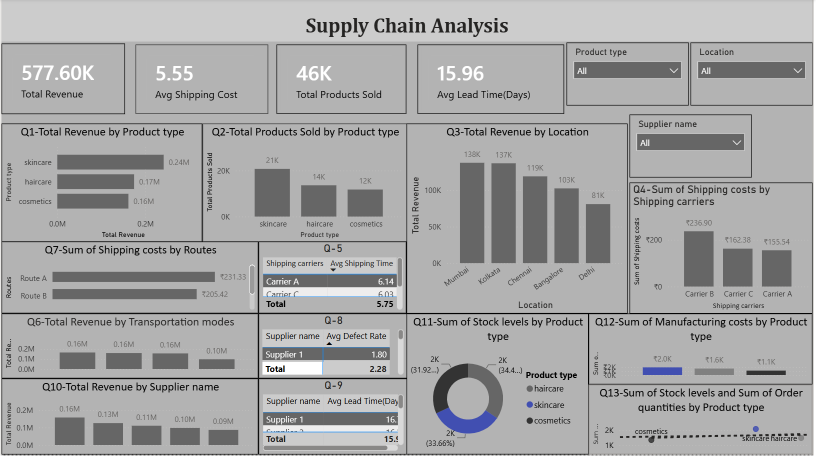

The dashboard page shown, as its layout file describes it:
{"tool":"powerbi","page":{"name":"Suppy Chain Analysis","canvas":[1280,720],"ordinal":4},"visuals":[{"type":"slicer","fields":{"Values":["project_supply_chain_data supply_chain_data.Supplier name"]},"box":[991.5,182.9,193,99.6],"z":0},{"type":"slicer","fields":{"Values":["project_supply_chain_data supply_chain_data.Product type"]},"box":[891.9,69.1,193,99.6],"z":1000},{"type":"slicer","fields":{"Values":["project_supply_chain_data supply_chain_data.Location"]},"box":[1087,69.1,193,99.6],"z":2000},{"type":"textbox","box":[0,0,1280,67.9],"z":3000},{"type":"cardVisual","fields":{"Data":["project_supply_chain_data supply_chain_data.Total Revenue"]},"box":[0,71.1,195,111.7],"z":3001},{"type":"cardVisual","fields":{"Data":["project_supply_chain_data supply_chain_data.Total Products Sold"]},"box":[434.8,73.1,205.2,109.7],"z":3002},{"type":"cardVisual","fields":{"Data":["project_supply_chain_data supply_chain_data.Avg Shipping Cost"]},"box":[211.3,73.1,209.3,109.7],"z":3003},{"type":"cardVisual","fields":{"Data":["project_supply_chain_data supply_chain_data.Avg Lead Time(Days)"]},"box":[656.3,73.1,231.6,109.7],"z":3004},{"type":"clusteredBarChart","title":"Q1-Total Revenue by Product type","fields":{"Y":["project_supply_chain_data supply_chain_data.Total Revenue"],"Category":["project_supply_chain_data supply_chain_data.Product type"]},"box":[0,197.1,317,186.9],"z":3005},{"type":"clusteredColumnChart","title":"Q2-Total Products Sold by Product type","fields":{"Category":["project_supply_chain_data supply_chain_data.Product type"],"Y":["project_supply_chain_data supply_chain_data.Total Products Sold"]},"box":[317,197.1,323,186.9],"z":3006},{"type":"columnChart","title":"Q3-Total Revenue by Location","fields":{"Category":["project_supply_chain_data supply_chain_data.Location"],"Y":["project_supply_chain_data supply_chain_data.Total Revenue"]},"box":[639.2,197.3,348.8,299.9],"z":3007},{"type":"clusteredColumnChart","title":"Q4-Sum of Shipping costs by Shipping carriers","fields":{"Category":["project_supply_chain_data supply_chain_data.Shipping carriers"],"Y":["Sum(project_supply_chain_data supply_chain_data.Shipping costs)"]},"box":[991.2,290.4,288.8,206.8],"z":3008},{"type":"tableEx","title":"Q-5","fields":{"Values":["project_supply_chain_data supply_chain_data.Shipping carriers","project_supply_chain_data supply_chain_data.Avg Shipping Time"]},"box":[405.6,383.5,233.6,113.6],"z":3009},{"type":"clusteredColumnChart","title":"Q6-Total Revenue by Transportation modes","fields":{"Category":["project_supply_chain_data supply_chain_data.Transportation modes"],"Y":["project_supply_chain_data supply_chain_data.Total Revenue"]},"box":[0,497.2,405.6,102.6],"z":3010},{"type":"barChart","title":"Q7-Sum of Shipping costs by Routes","fields":{"Category":["project_supply_chain_data supply_chain_data.Routes"],"Y":["Sum(project_supply_chain_data supply_chain_data.Shipping costs)"]},"box":[0,383.5,405.6,113.6],"z":3011},{"type":"pivotTable","title":"Q-8","fields":{"Rows":["project_supply_chain_data supply_chain_data.Supplier name"],"Values":["project_supply_chain_data supply_chain_data.Avg Defect Rate"]},"box":[405.6,497.2,235.2,102.6],"z":3012},{"type":"tableEx","title":"Q-9","fields":{"Values":["project_supply_chain_data supply_chain_data.Supplier name","project_supply_chain_data supply_chain_data.Avg Lead Time(Days)"]},"box":[405.6,599.8,235.2,120],"z":3013},{"type":"clusteredColumnChart","title":"Q10-Total Revenue by Supplier name","fields":{"Category":["project_supply_chain_data supply_chain_data.Supplier name"],"Y":["project_supply_chain_data supply_chain_data.Total Revenue"]},"box":[0,599.8,405.6,120],"z":3014},{"type":"donutChart","title":"Q11-Sum of Stock levels by Product type","fields":{"Category":["project_supply_chain_data supply_chain_data.Product type"],"Y":["Sum(project_supply_chain_data supply_chain_data.Stock levels)"]},"box":[639.2,497.2,287.3,222.5],"z":3015},{"type":"columnChart","title":"Q12-Sum of Manufacturing costs by Product type","fields":{"Category":["project_supply_chain_data supply_chain_data.Product type"],"Y":["Sum(project_supply_chain_data supply_chain_data.Manufacturing costs)"]},"box":[926.5,497.2,353.5,112.1],"z":3016},{"type":"scatterChart","title":"Q13-Sum of Stock levels and Sum of Order quantities by Product type","fields":{"X":["Sum(project_supply_chain_data supply_chain_data.Stock levels)"],"Y":["Sum(project_supply_chain_data supply_chain_data.Order quantities)"],"Series":["project_supply_chain_data supply_chain_data.Product type"]},"box":[926.5,609.2,353.5,110.5],"z":3017}]}

Visuals, with their boxes in screenshot pixels (x1, y1, x2, y2), scaled from the page's 1280x720 canvas onto the 816x456 screenshot:
slicer - project_supply_chain_data supply_chain_data.Supplier name: [632, 116, 755, 179]
slicer - project_supply_chain_data supply_chain_data.Product type: [569, 44, 692, 107]
slicer - project_supply_chain_data supply_chain_data.Location: [693, 44, 815, 107]
textbox: [0, 0, 815, 43]
cardVisual - project_supply_chain_data supply_chain_data.Total Revenue: [0, 45, 124, 116]
cardVisual - project_supply_chain_data supply_chain_data.Total Products Sold: [277, 46, 408, 116]
cardVisual - project_supply_chain_data supply_chain_data.Avg Shipping Cost: [135, 46, 268, 116]
cardVisual - project_supply_chain_data supply_chain_data.Avg Lead Time(Days): [418, 46, 566, 116]
"Q1-Total Revenue by Product type" clusteredBarChart: [0, 125, 202, 243]
"Q2-Total Products Sold by Product type" clusteredColumnChart: [202, 125, 408, 243]
"Q3-Total Revenue by Location" columnChart: [407, 125, 630, 315]
"Q4-Sum of Shipping costs by Shipping carriers" clusteredColumnChart: [632, 184, 815, 315]
"Q-5" tableEx: [259, 243, 407, 315]
"Q6-Total Revenue by Transportation modes" clusteredColumnChart: [0, 315, 259, 380]
"Q7-Sum of Shipping costs by Routes" barChart: [0, 243, 259, 315]
"Q-8" pivotTable: [259, 315, 409, 380]
"Q-9" tableEx: [259, 380, 409, 455]
"Q10-Total Revenue by Supplier name" clusteredColumnChart: [0, 380, 259, 455]
"Q11-Sum of Stock levels by Product type" donutChart: [407, 315, 591, 455]
"Q12-Sum of Manufacturing costs by Product type" columnChart: [591, 315, 815, 386]
"Q13-Sum of Stock levels and Sum of Order quantities by Product type" scatterChart: [591, 386, 815, 455]
